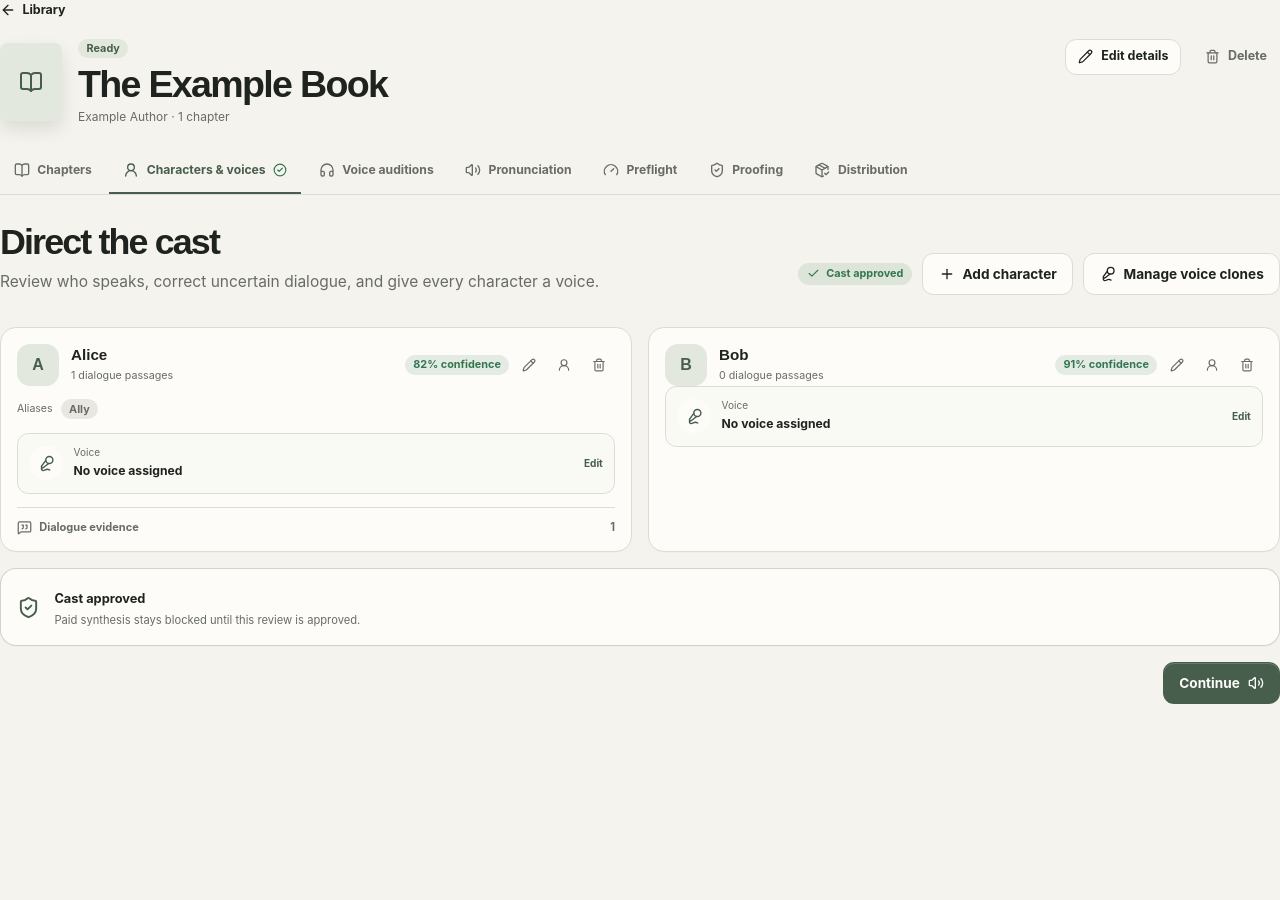
Scenario: character review › reflects approval invalidation immediately after changing a voice
The image size is (1280, 900).
expect the text "Cast approved" is shown: met, box 798,263 -> 912,285
Click the button "Voice No voice assigned Edit" below "Ally" at {"x": 46, "y": 463}, box 17,433 -> 615,494
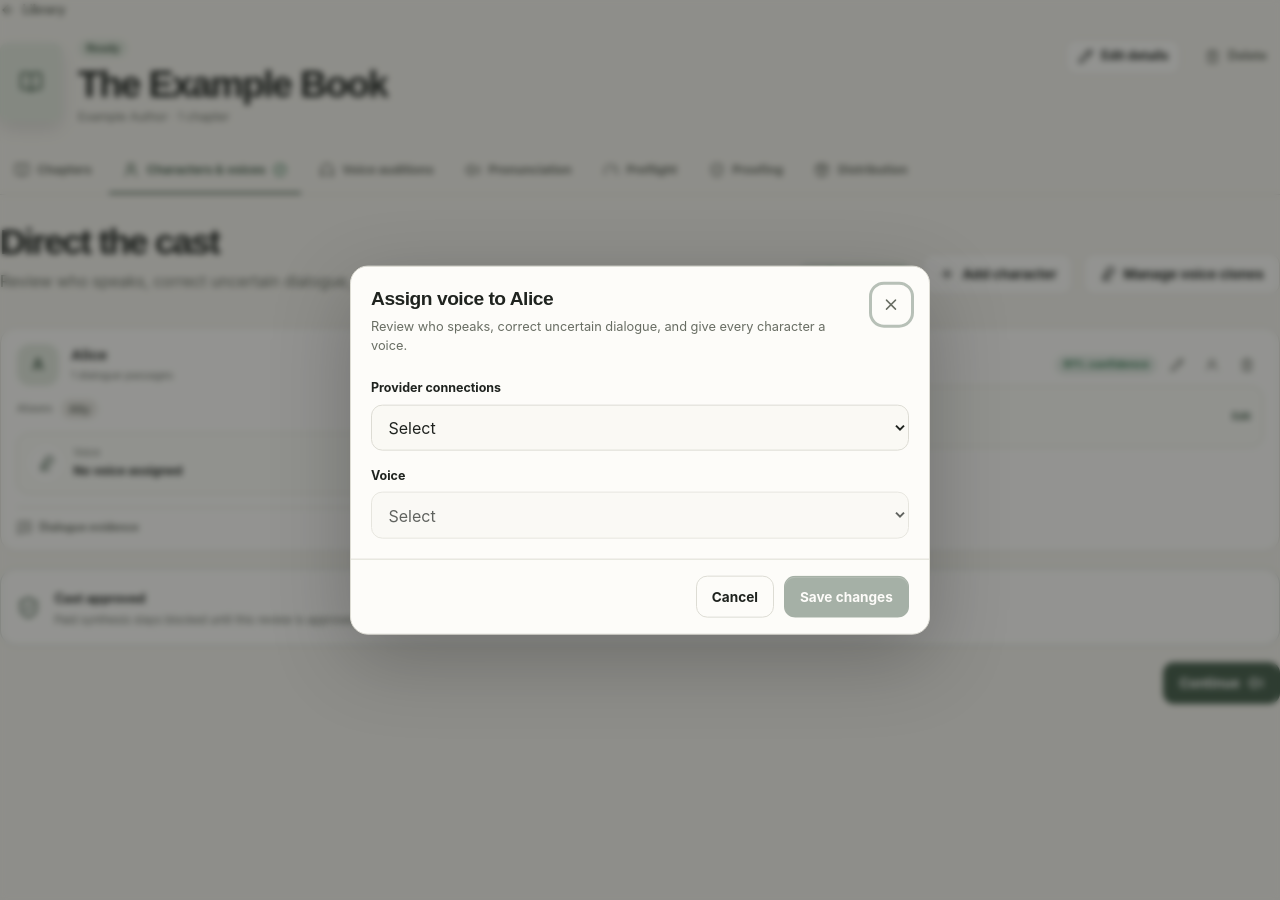
Select "Cloud Voice Lab" in the dropdown labelled "Provider connections" at {"x": 640, "y": 427}, box 371,404 -> 909,451
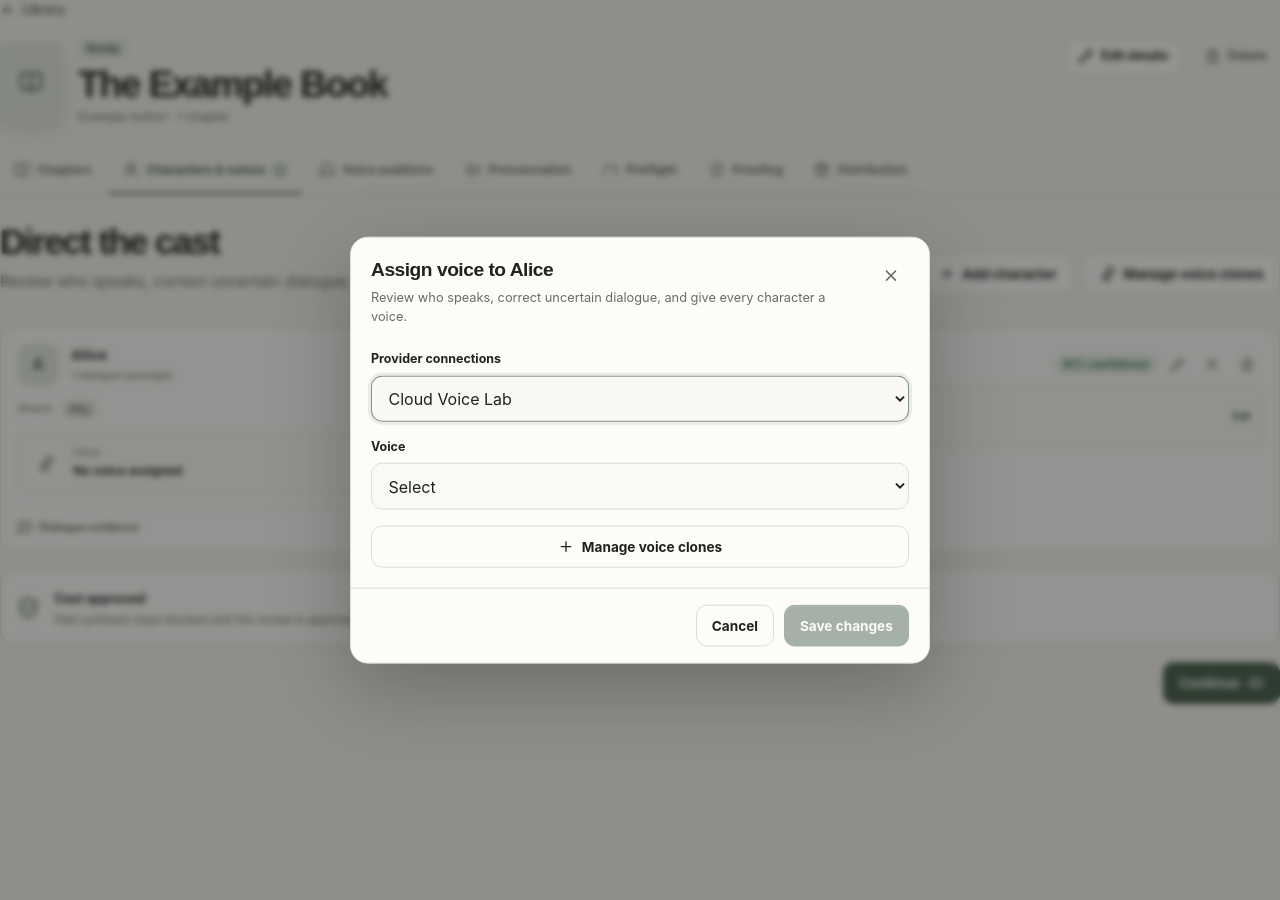
Select "Story Voice" in the dropdown labelled "Voice" at {"x": 640, "y": 486}, box 371,463 -> 909,509
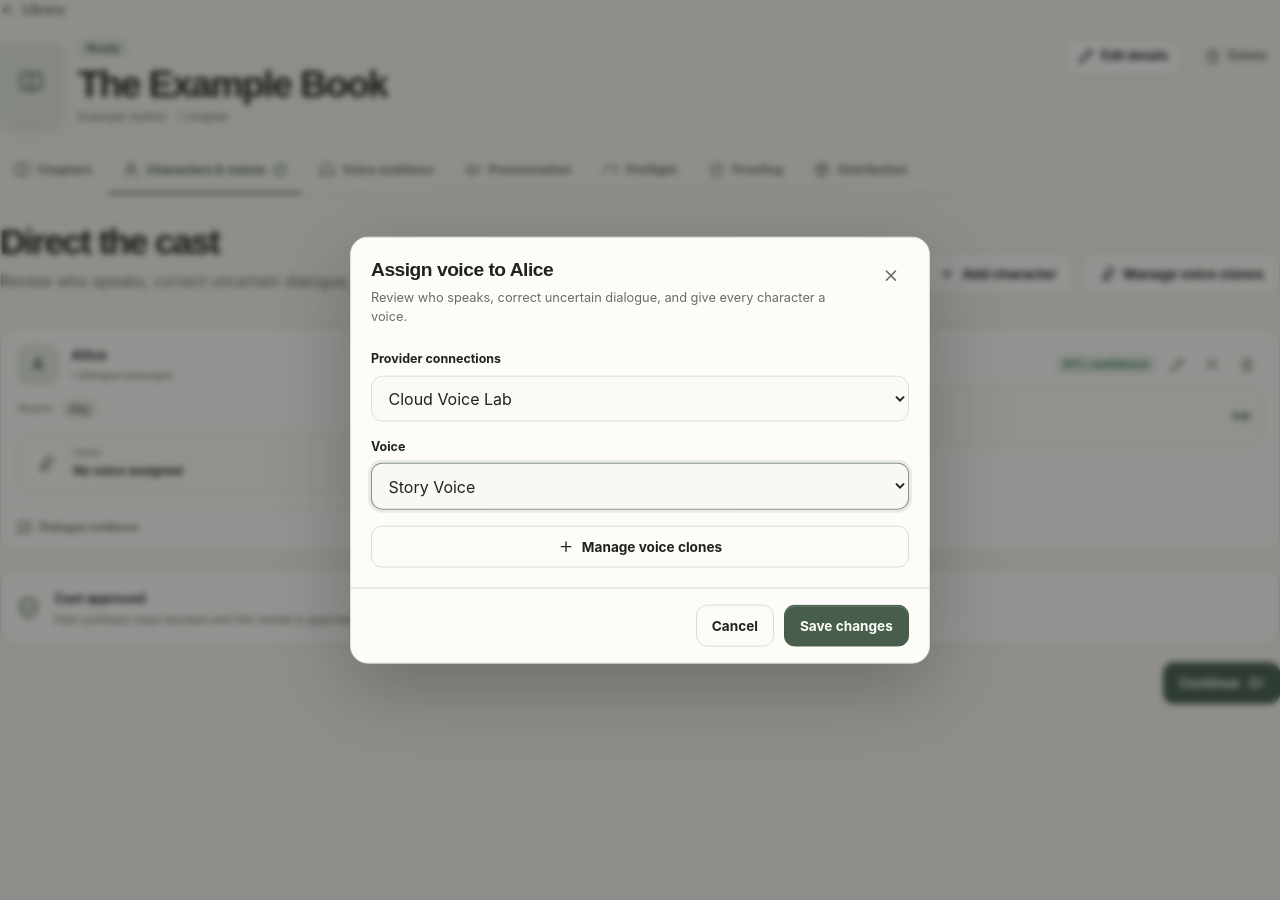
Click the button "Save changes" at {"x": 846, "y": 625}, box 784,604 -> 909,646
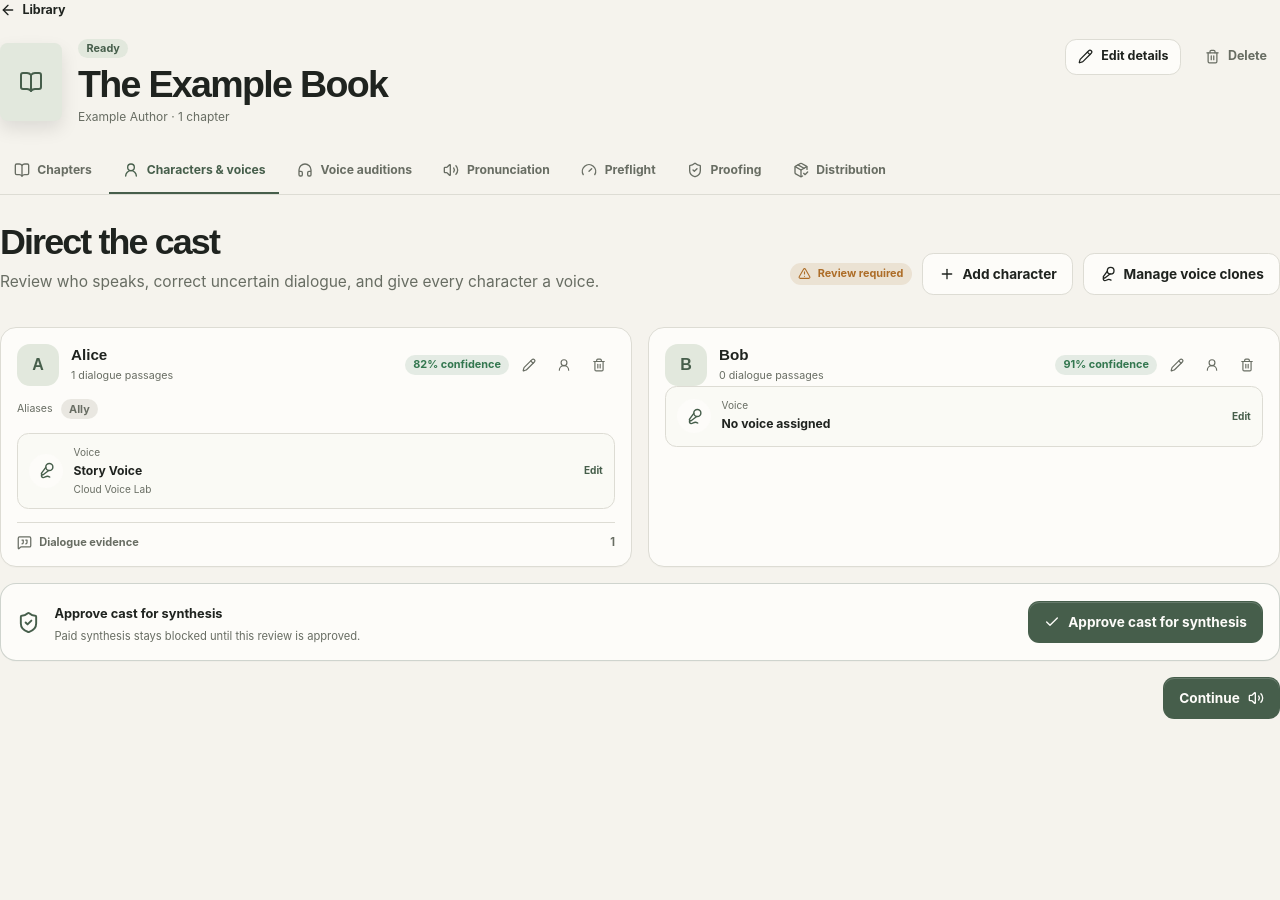
expect the button "Approve cast for synthesis" is shown: met, box 1028,601 -> 1263,643
expect the text "Review required" is shown: met, box 790,263 -> 912,285
